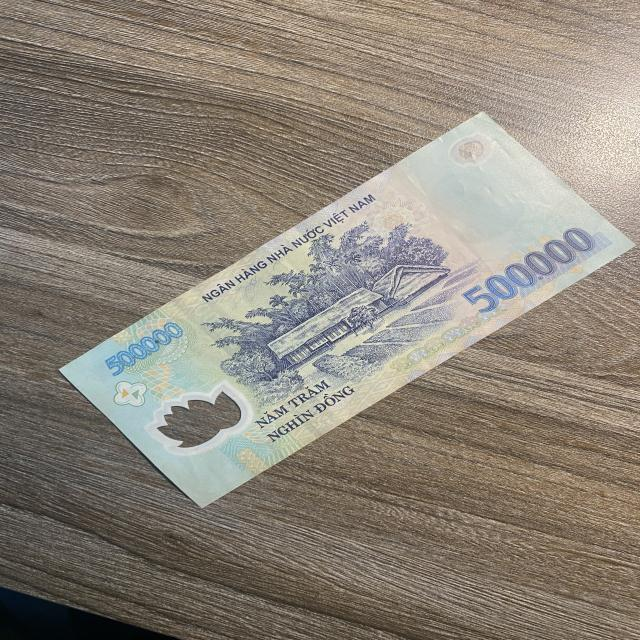500 000 VND: (57, 109, 640, 510)
